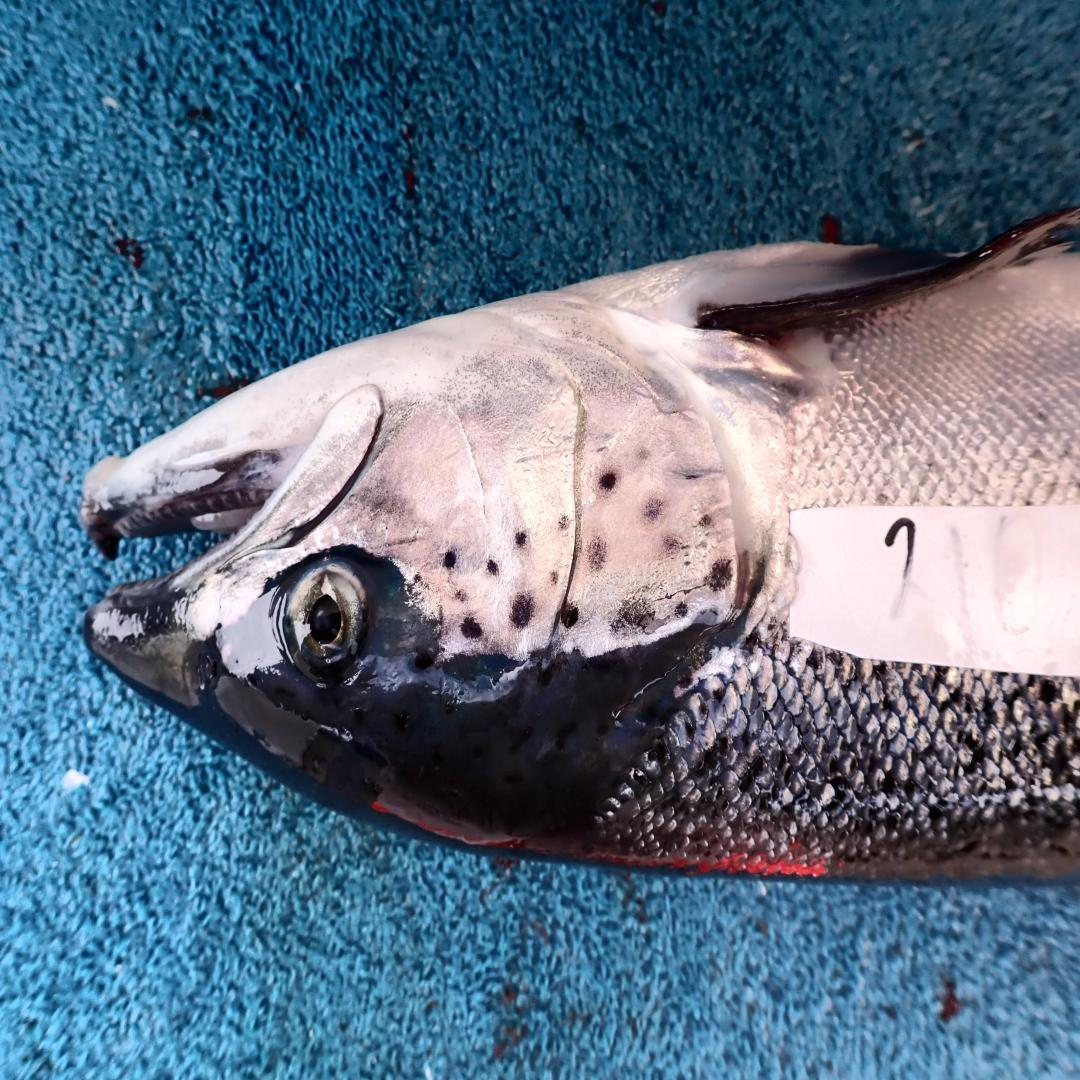spot: (613, 599, 653, 635), (705, 557, 732, 591), (510, 593, 534, 627), (586, 534, 608, 571), (643, 495, 667, 527), (460, 616, 483, 638), (561, 602, 578, 627), (662, 534, 681, 556), (694, 608, 718, 625), (599, 470, 616, 489), (557, 514, 571, 531), (515, 529, 527, 548), (697, 515, 713, 529), (443, 551, 456, 568), (675, 602, 688, 616), (487, 560, 498, 574), (454, 590, 465, 604), (551, 571, 559, 587)
